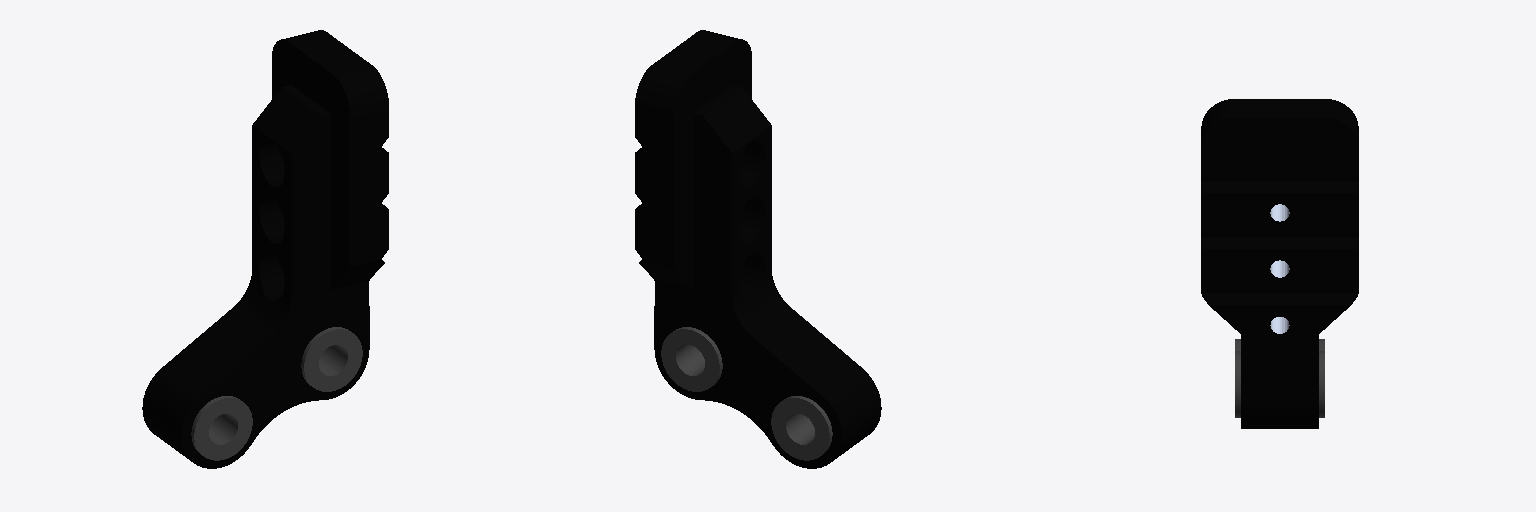
Rendered from robotiq_85_gripper_joint_3_R.obj.
3 views of the same model, side by side, from view 1: azimuth 30°, elevation 25°; view 2: azimuth 150°, elevation 25°; view 3: azimuth 270°, elevation 25° (orthographic).
Parts seen in each view (by area): view 1: Actor0_ActorShape0_0-Mesh.010, Actor1_ActorShape1_0-Mesh.002; view 2: Actor0_ActorShape0_0-Mesh.010, Actor1_ActorShape1_0-Mesh.002; view 3: Actor1_ActorShape1_0-Mesh.002, Actor0_ActorShape0_0-Mesh.010.
Boxes of the visible parts, x1=… form: Actor0_ActorShape0_0-Mesh.010: x1=142, y1=85, x2=369, y2=468; Actor1_ActorShape1_0-Mesh.002: x1=272, y1=30, x2=388, y2=315; Actor0_ActorShape0_0-Mesh.010: x1=654, y1=85, x2=881, y2=468; Actor1_ActorShape1_0-Mesh.002: x1=635, y1=30, x2=751, y2=315; Actor1_ActorShape1_0-Mesh.002: x1=1201, y1=99, x2=1358, y2=360; Actor0_ActorShape0_0-Mesh.010: x1=1235, y1=339, x2=1324, y2=428.
Size of the model in its own units: 0.0306 by 0.0573 by 0.0222.